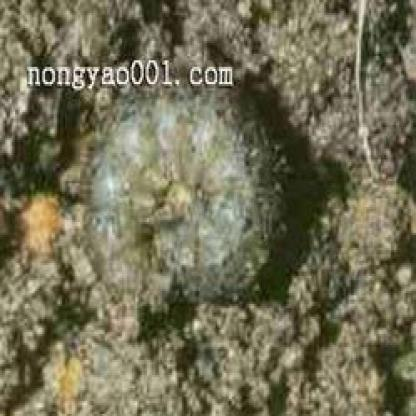armyworm: (67, 81, 297, 366)
